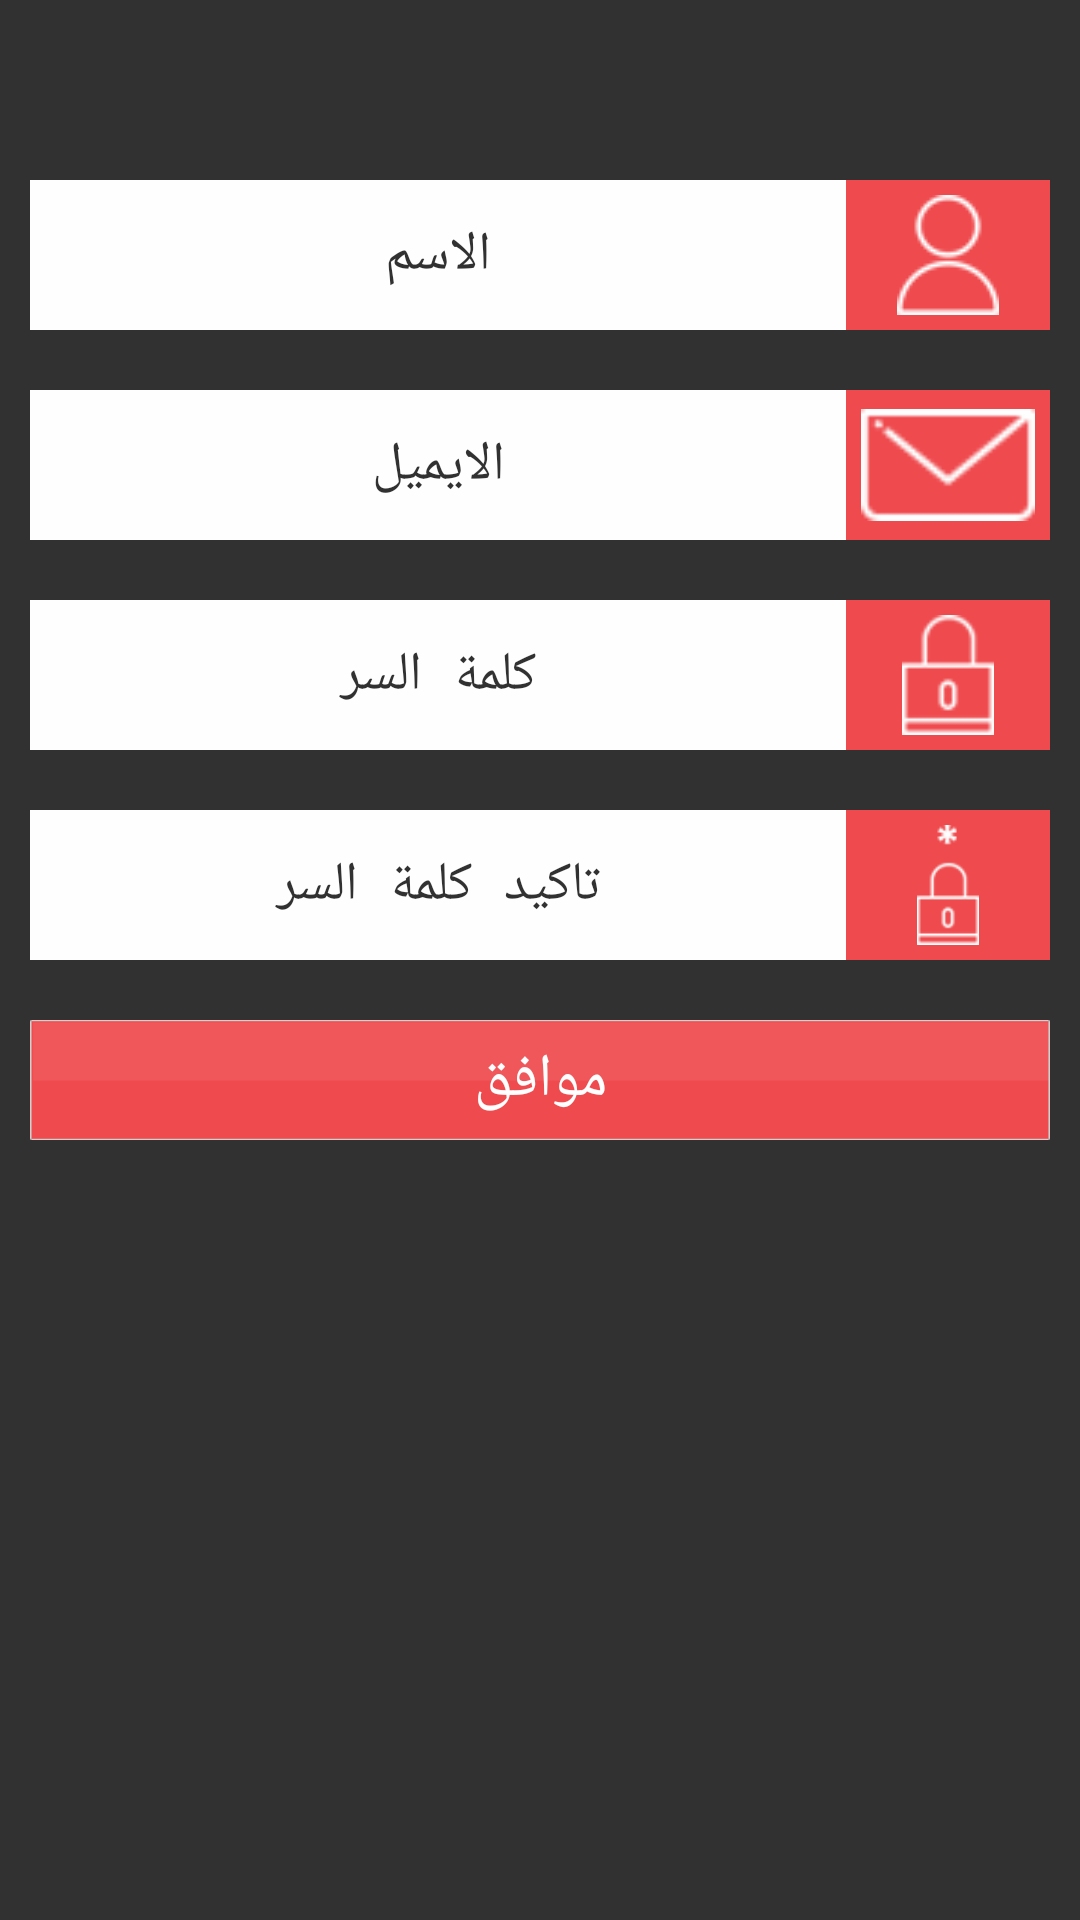

Icon click points for this 1080px x 1920px phone screenshot, format [x,y]:
feld conform password: [948,885]
feld email: [948,465]
feld pass: [948,675]
feld user name: [948,255]
